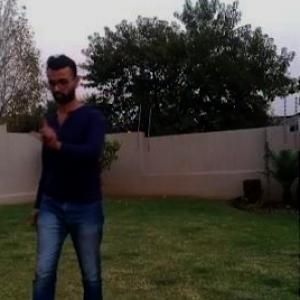land_hand: (27, 110, 64, 156)
